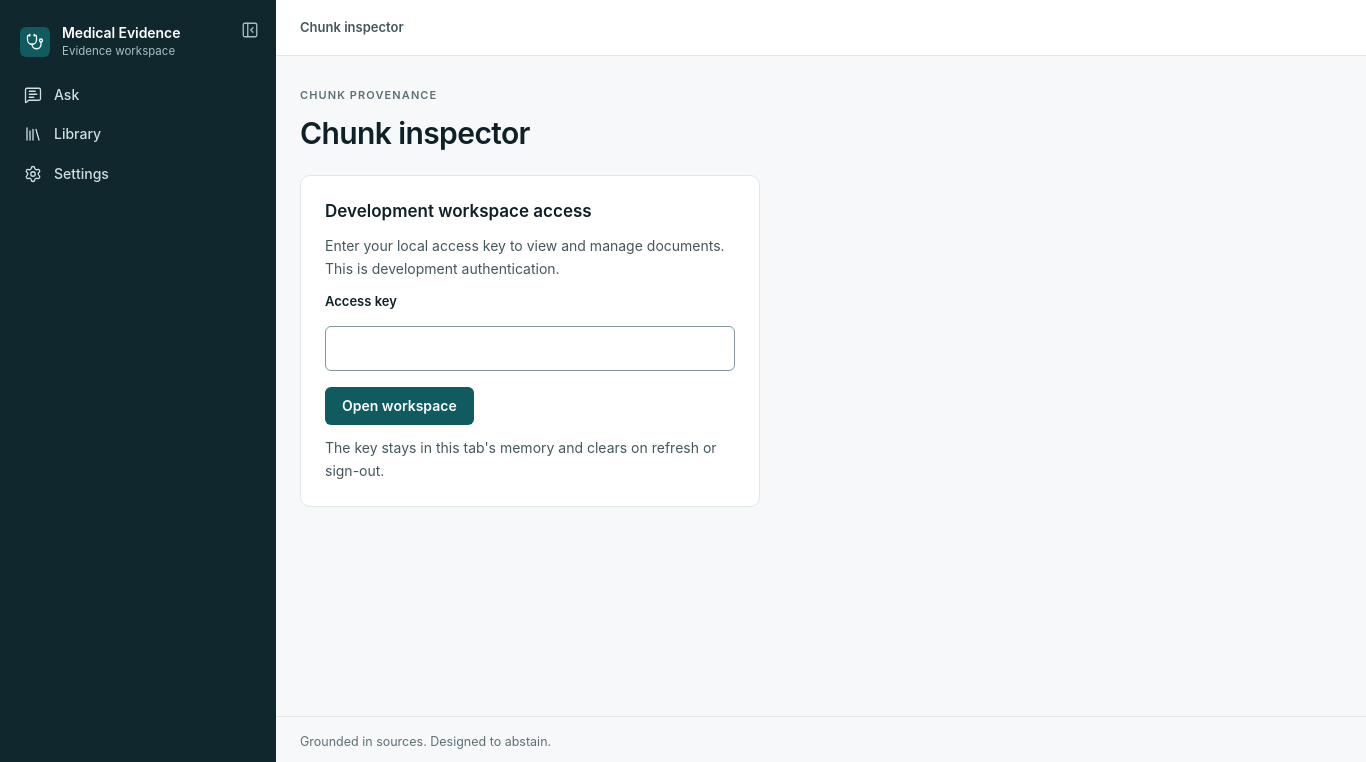
Test case: where to start › flags the findings view as the place to start when another view is open
The width and height of the screenshot is (1366, 762).
In the password field labelled "Access key": (530, 349) [325,326,735,371], type "k"
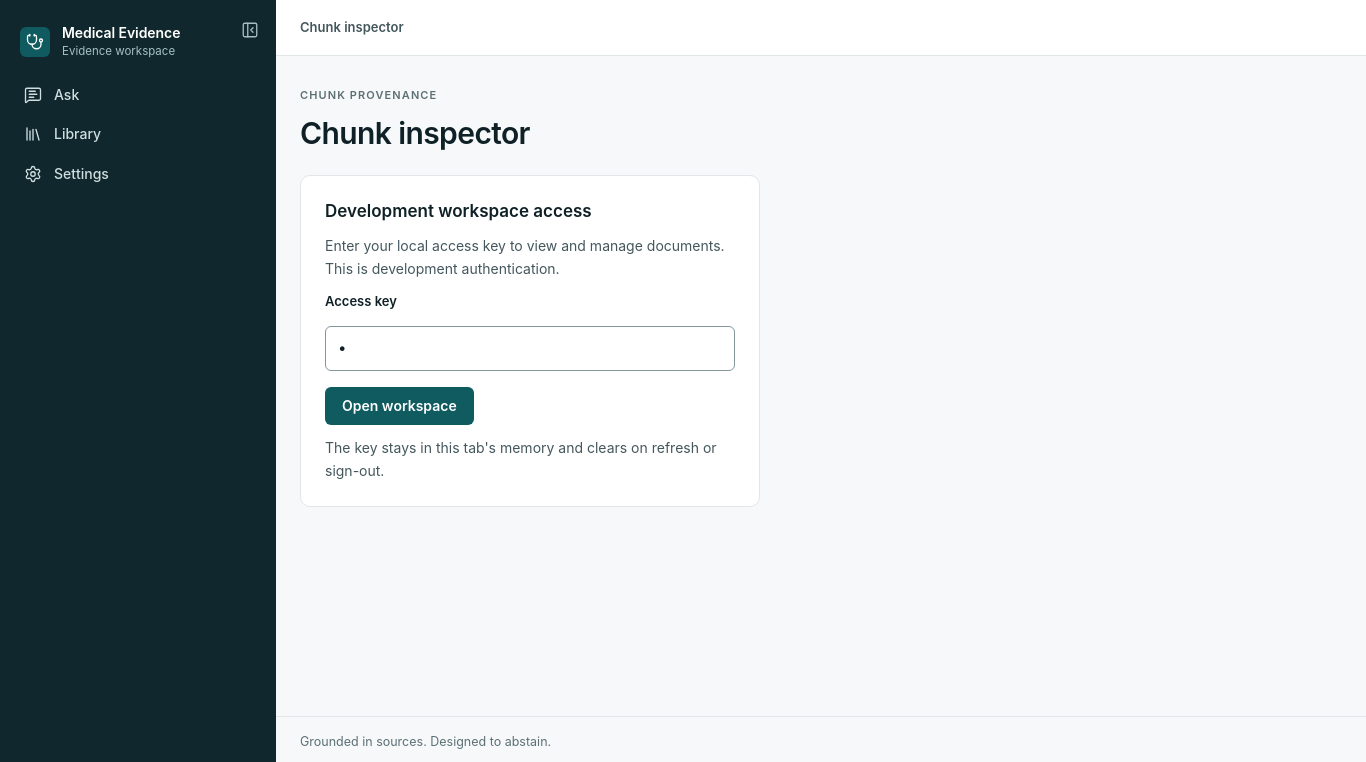
Click the button "Open workspace": (399, 406) [325,387,474,425]
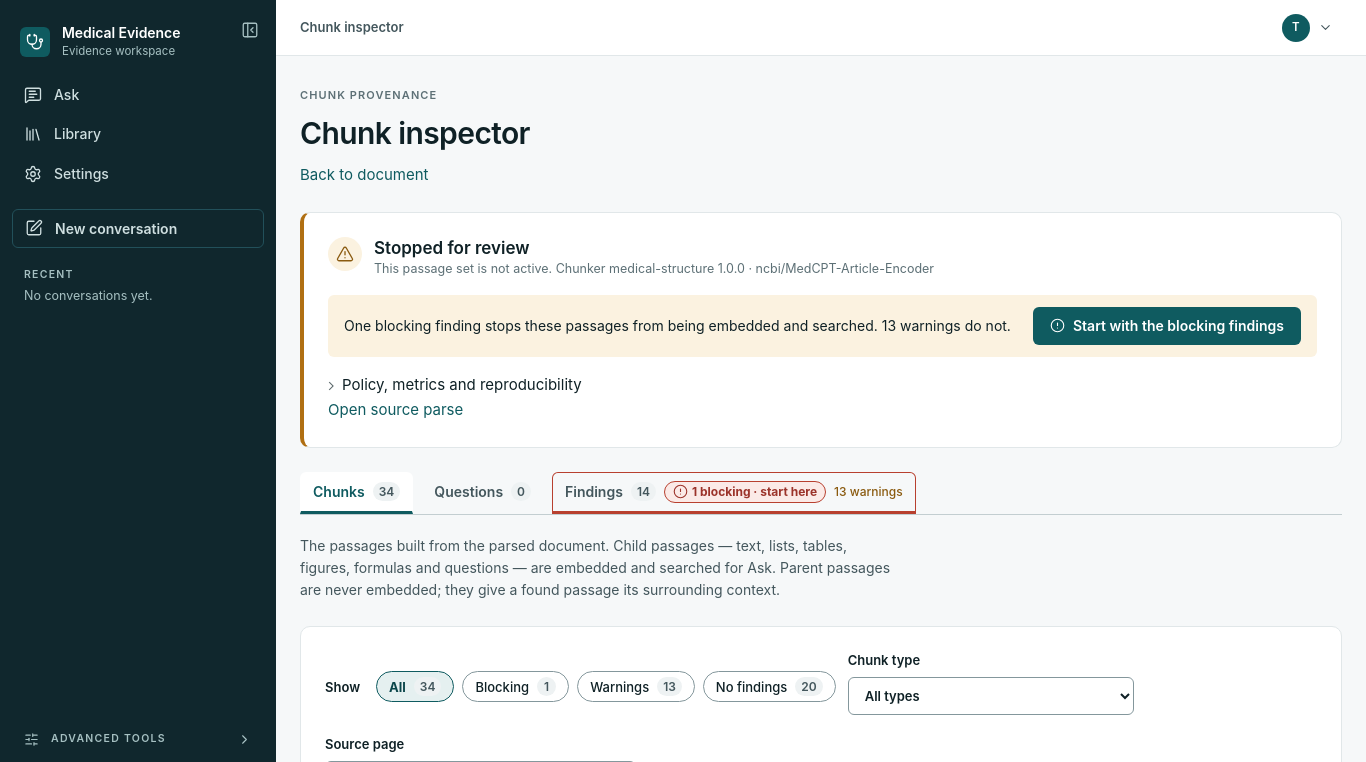
Expected: the button named "Account and workspace" is shown, [1277,8,1342,46]
Expected: the tab "Findings 14 1 blocking · start here 13 warnings" is shown, [552,472,916,514]
